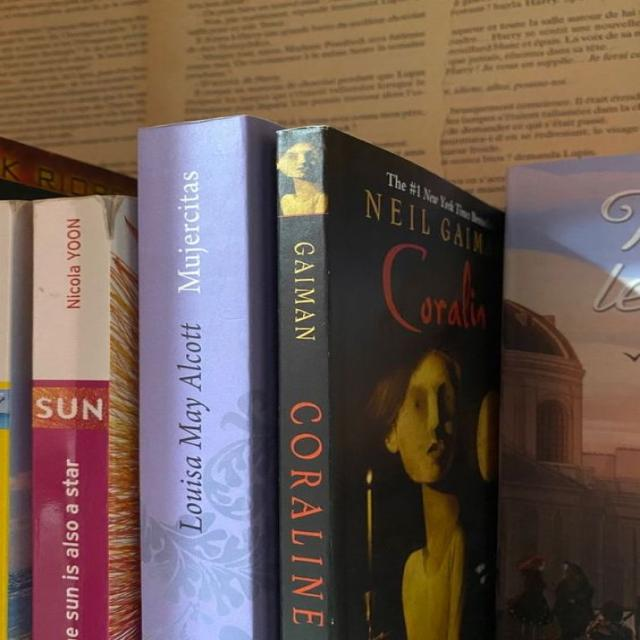book: (138, 116, 278, 639), (32, 197, 112, 639), (274, 125, 320, 640), (0, 201, 32, 585)
